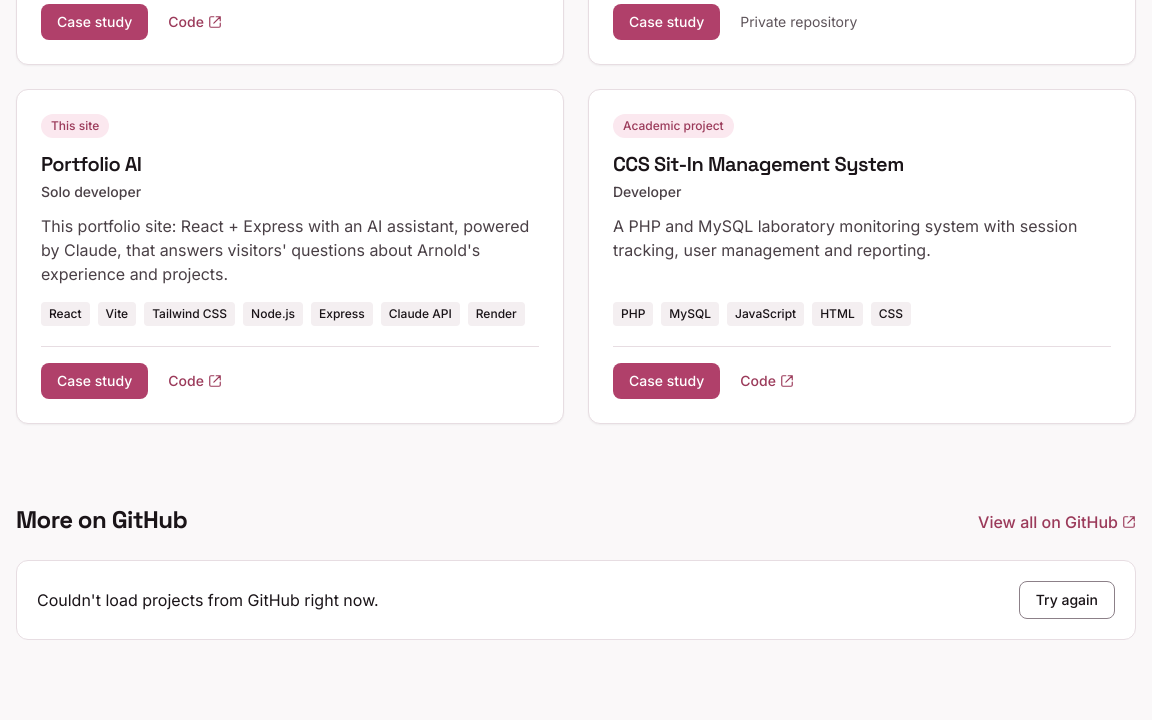
Scenario: Projects › shows an error with a working retry
This screenshot has width=1152, height=720.
(page scrolled)
Click the button "Try again".
click(1067, 600)  # box x1=1019 y1=581 x2=1115 y2=619
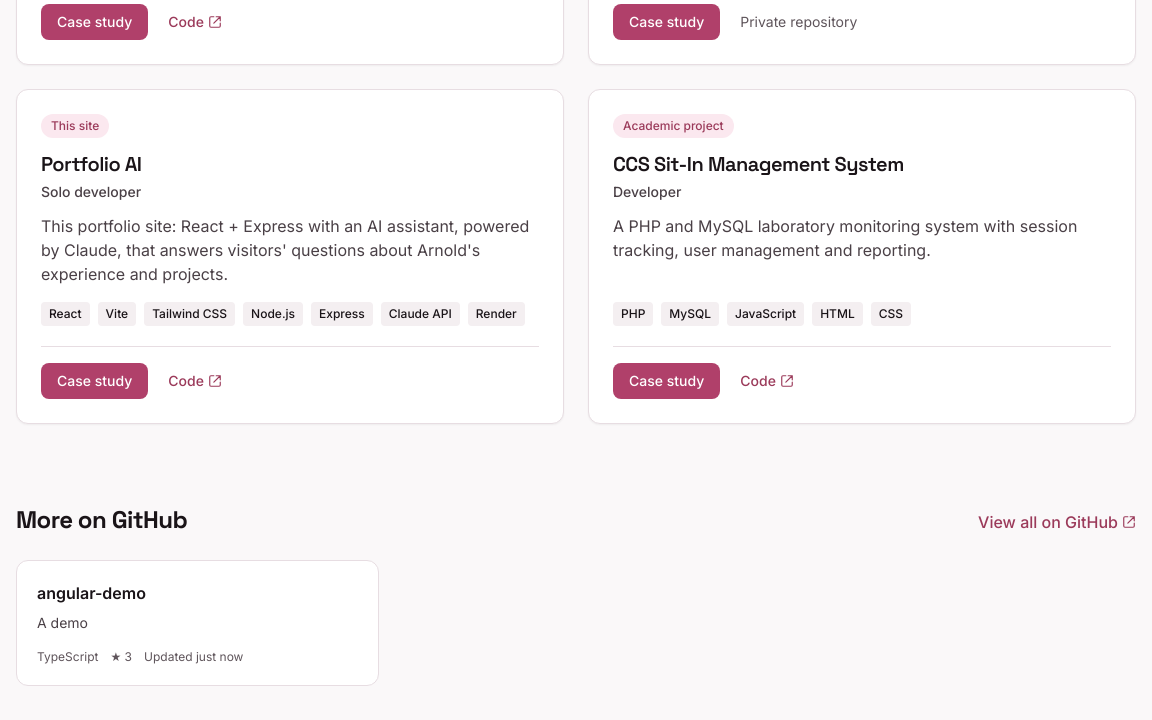
expect the link "angular-demo A demo TypeScript ★ 3 Updated just now" is shown: met, box x1=16 y1=560 x2=379 y2=686
